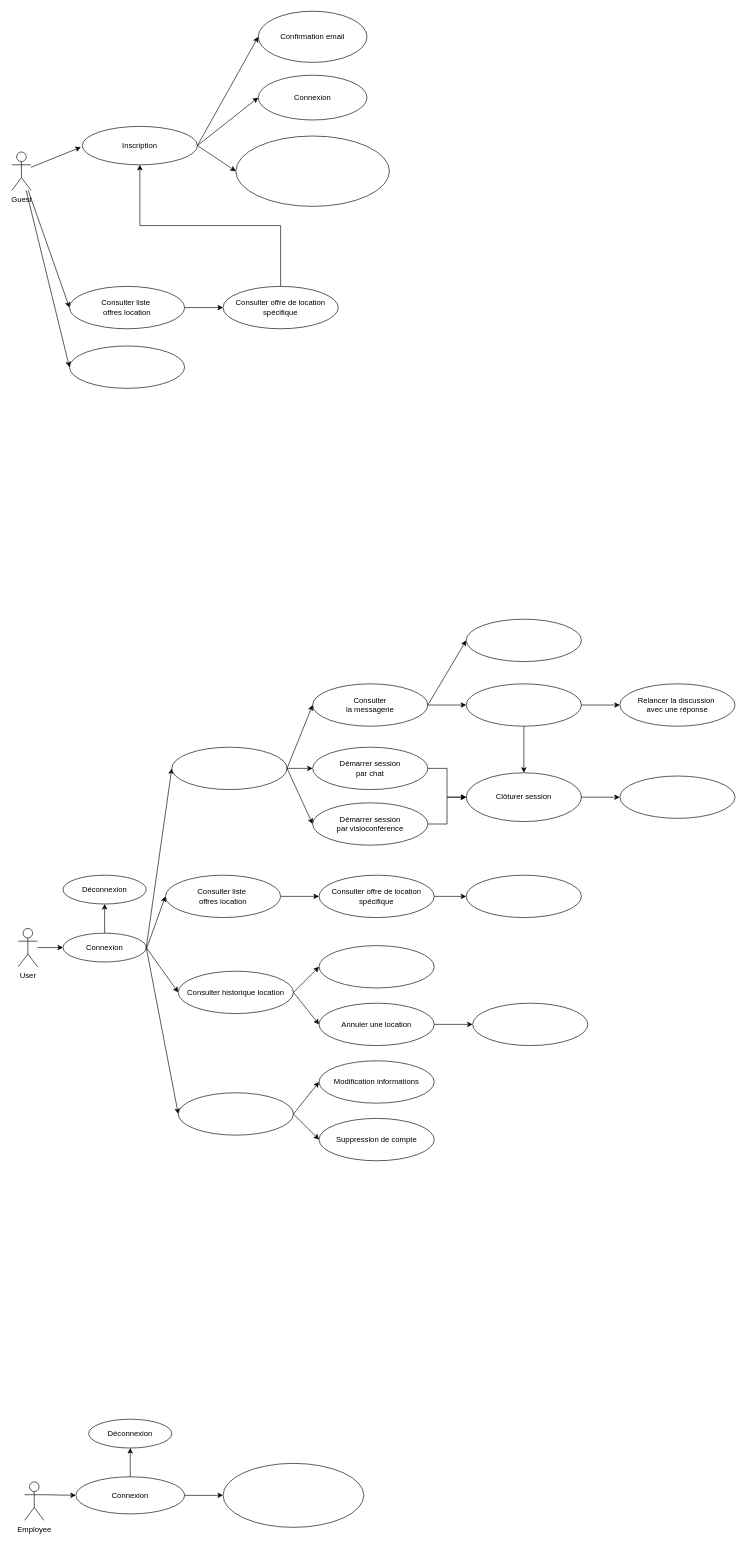
The diagram is 746 pixels wide and 1545 high, and some of its shapes have lost their labels. The box of each missing label's shape, as (x1, y1, x2, y2) in pixels:
Consulter la liste d'agences de location: (69, 345, 185, 388)
Consulter son propre profil: (178, 1092, 293, 1135)
Contacter le support: (171, 747, 287, 790)
Demander un remboursement: (472, 1003, 588, 1046)
Demander une réinitialisation de mot de passe: (235, 135, 389, 206)
Donner une note sur le support client: (619, 775, 735, 818)
Envoyer un message: (466, 619, 581, 662)
Lire la réponse: (466, 683, 581, 726)
Modifier une location: (318, 945, 434, 988)
Opérations CRUD pour chaque domaine: (222, 1463, 364, 1527)
Réserver la location choisie: (466, 875, 581, 918)
